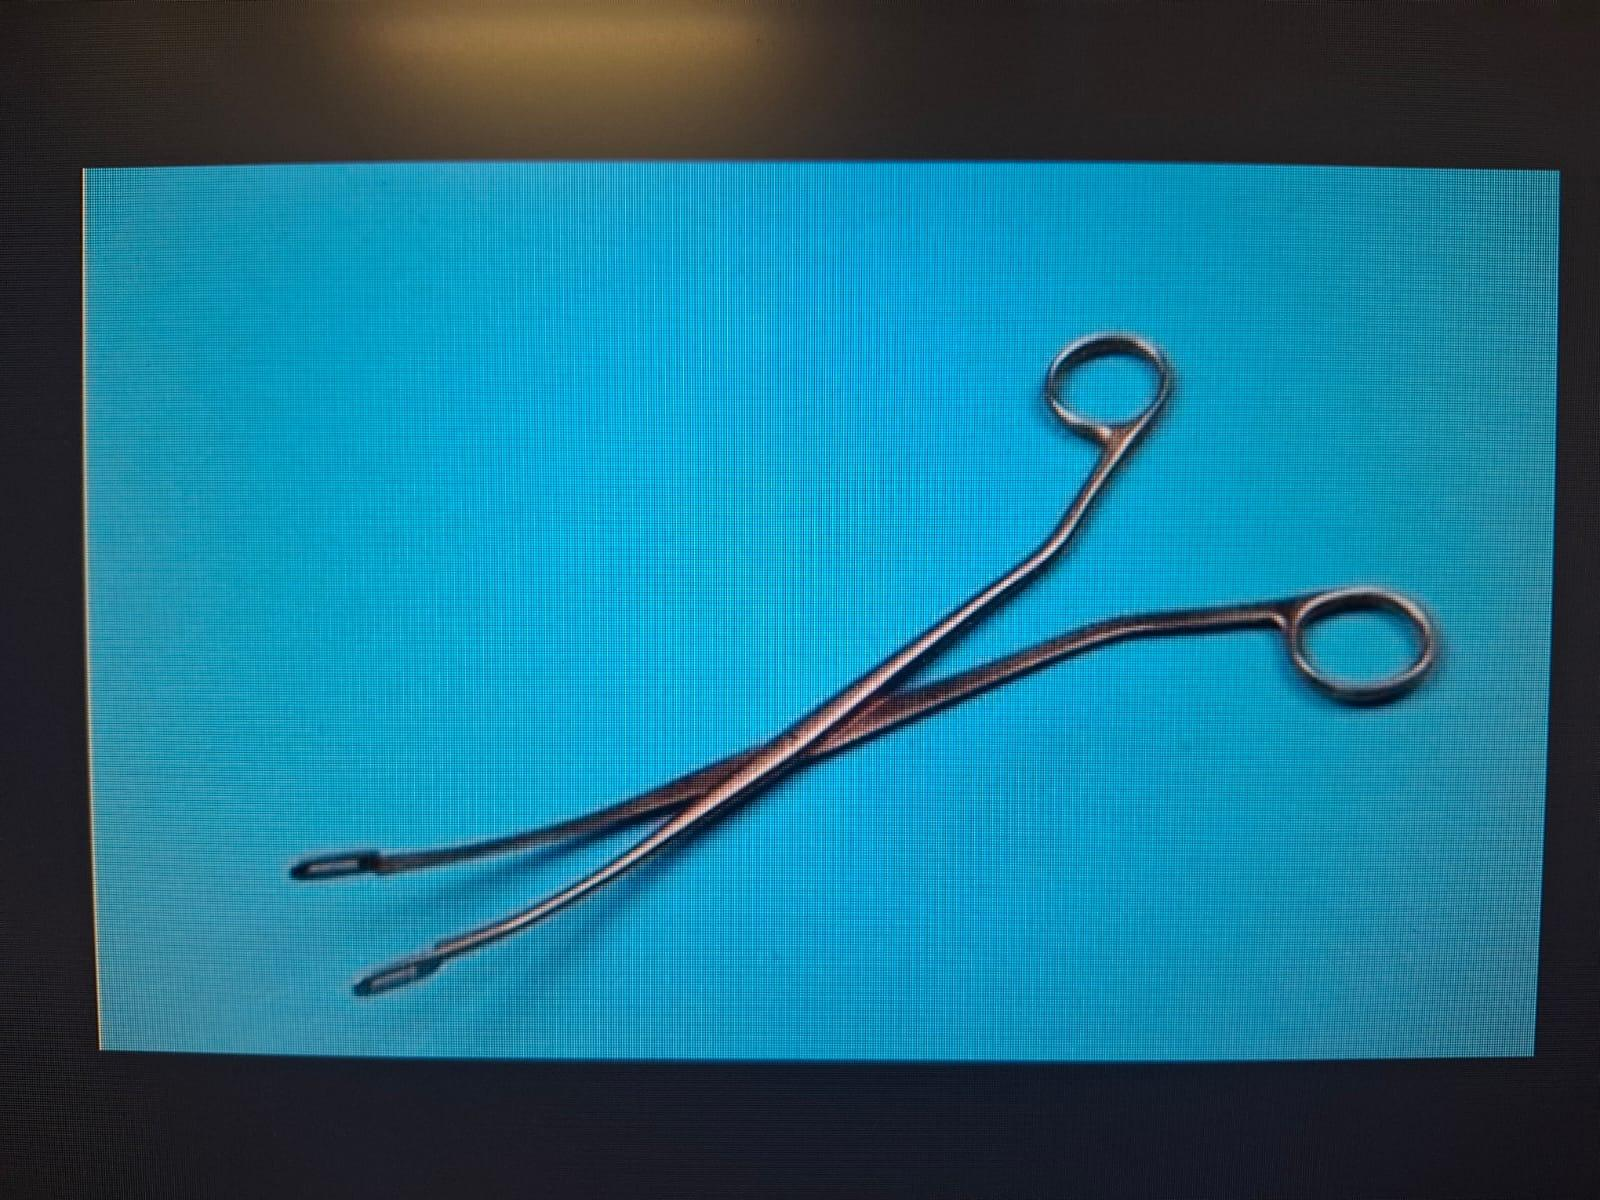Desjardin Forceps: (286, 321, 1440, 998)
